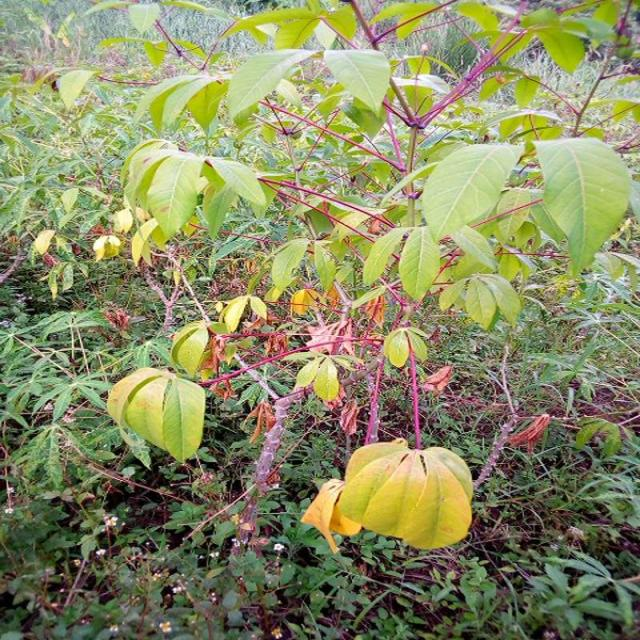cassava leaf: (336, 443, 473, 549), (532, 134, 630, 280), (421, 141, 522, 243), (106, 366, 206, 464)
